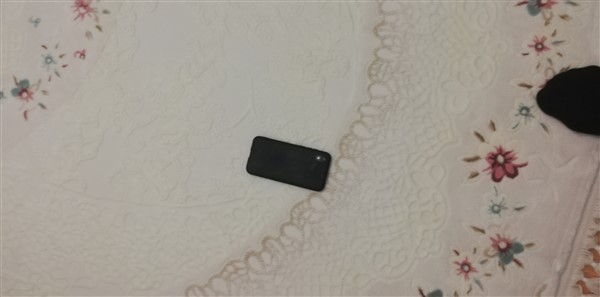telefon: (243, 135, 333, 193)
